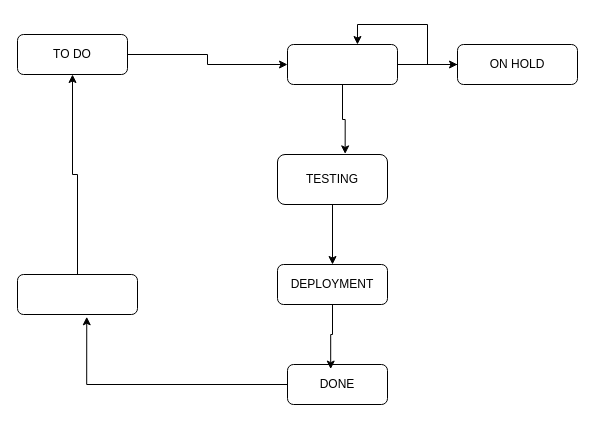
Image size: 595x422. Some labels were removed from this diagram. Here are the shapes that lost their labels. From the top down, the centre of each, then its label:
At (342,64): "IN PROGRESS".
At (77,294): "MAINTENANCE".
